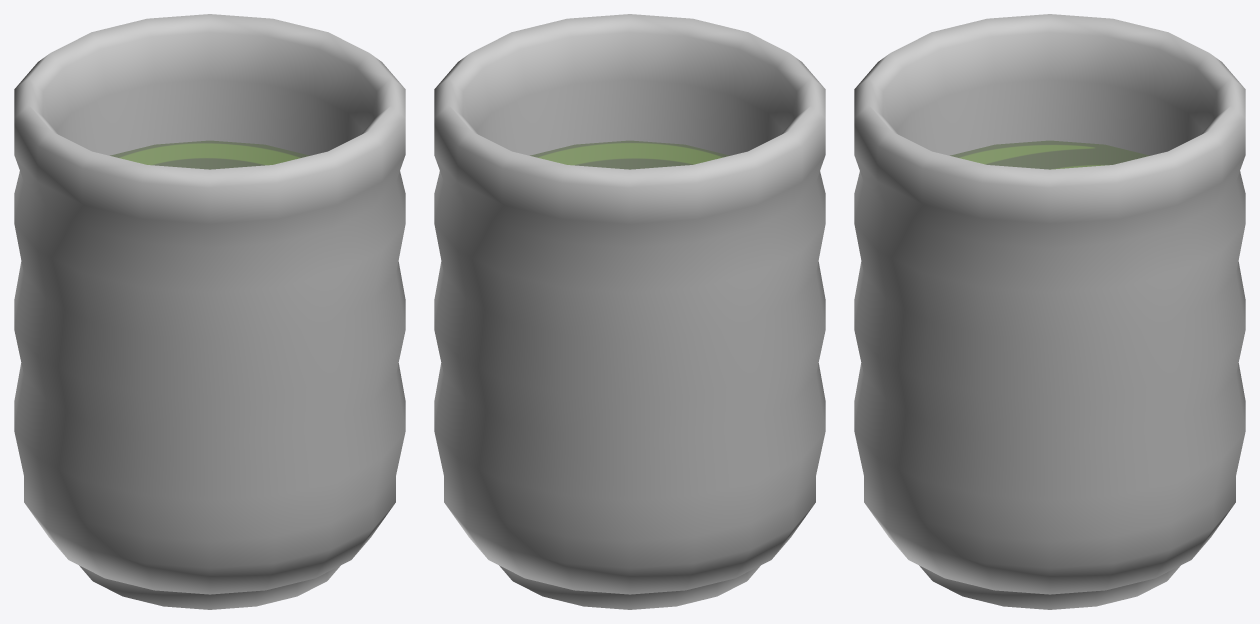
Rendered from Teacup_Full_01.FBX.
The picture shows the model from 3 angles, left to right: view 1: azimuth 30°, elevation 25°; view 2: azimuth 150°, elevation 25°; view 3: azimuth 270°, elevation 25°; orthographic projection.
Visible parts, largest first — view 1: yunomi_01, greentea; view 2: yunomi_01, greentea; view 3: yunomi_01, greentea.
Part boxes in pixels (left/top/right/bottom): yunomi_01: left=14, top=14, right=405, bottom=609; greentea: left=110, top=140, right=309, bottom=169; yunomi_01: left=434, top=14, right=825, bottom=609; greentea: left=530, top=140, right=729, bottom=169; yunomi_01: left=854, top=14, right=1245, bottom=609; greentea: left=950, top=140, right=1149, bottom=169.
Bounding box in the file's own units: 0.0818 × 0.1047 × 0.0806.
